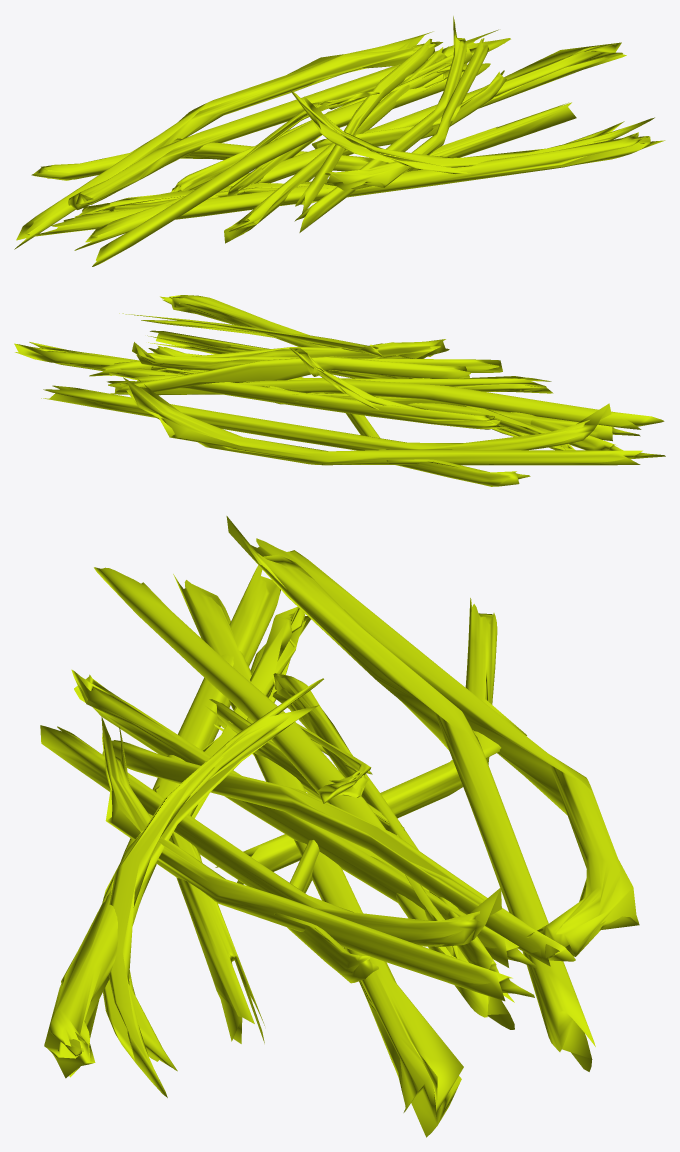
File: lemon_zest.fbx
The picture shows the model from 3 angles, top to bottom: view 1: azimuth 30°, elevation 25°; view 2: azimuth 150°, elevation 25°; view 3: azimuth 270°, elevation 25°; orthographic projection. The views are drawn at different scales.
Parts seen in each view (by area): view 1: Cylinder.000; view 2: Cylinder.000; view 3: Cylinder.000.
Part boxes in pixels (box(x1,y1,x2,y2)): Cylinder.000: box(14, 16, 665, 266); Cylinder.000: box(14, 295, 665, 486); Cylinder.000: box(40, 516, 639, 1137).
Size of the model in its own units: 2.76 by 0.3316 by 1.19.
